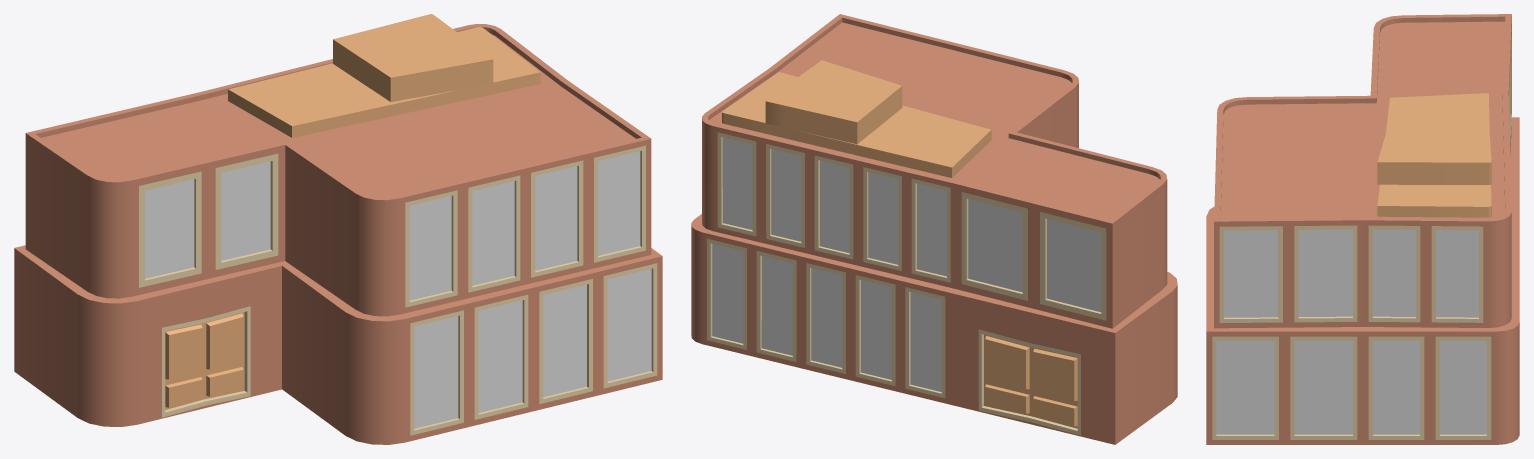
File: cb-apartment-C.fbx
The picture shows the model from 3 angles, left to right: view 1: azimuth 30°, elevation 25°; view 2: azimuth 150°, elevation 25°; view 3: azimuth 270°, elevation 25°; orthographic projection. The views are drawn at different scales.
Parts seen in each view (by area): view 1: cb-apartment-C; view 2: cb-apartment-C; view 3: cb-apartment-C.
Part boxes in pixels (x1,y1,x2,y2): cb-apartment-C: [14, 14, 662, 444]; cb-apartment-C: [691, 14, 1177, 444]; cb-apartment-C: [1206, 14, 1519, 444].
Size of the model in its own units: 15.67 by 8.48 by 9.68.
